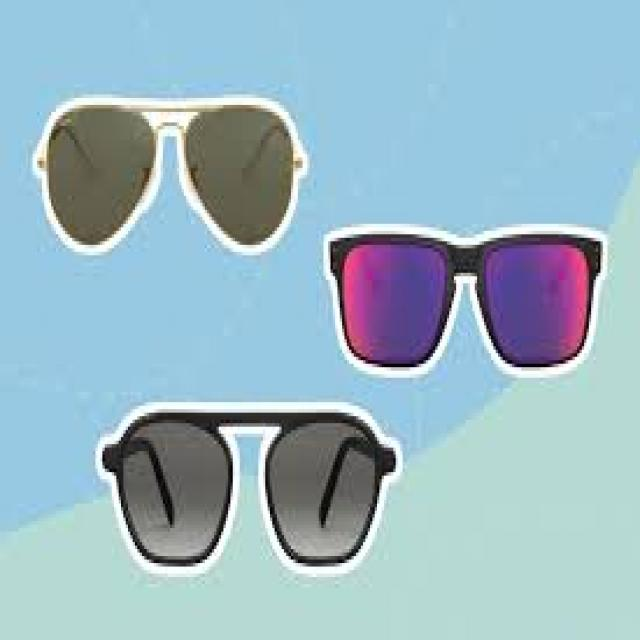suspicious-objects: (322, 220, 609, 378)
